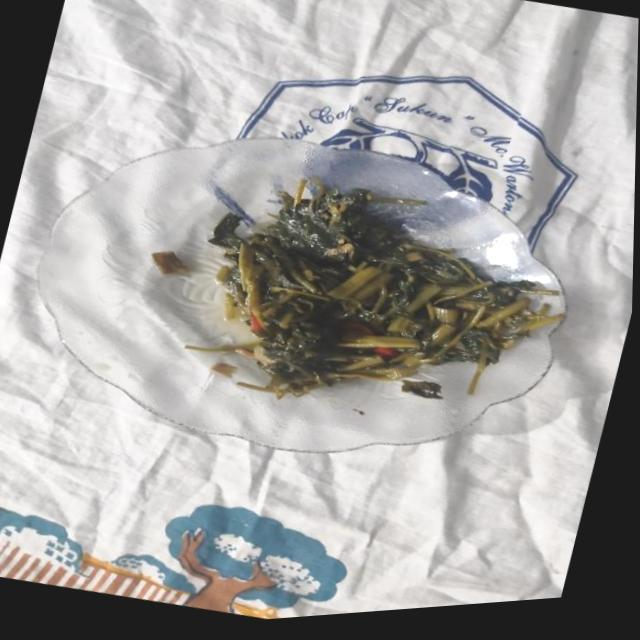tumis_kangkung: (185, 177, 560, 396)
